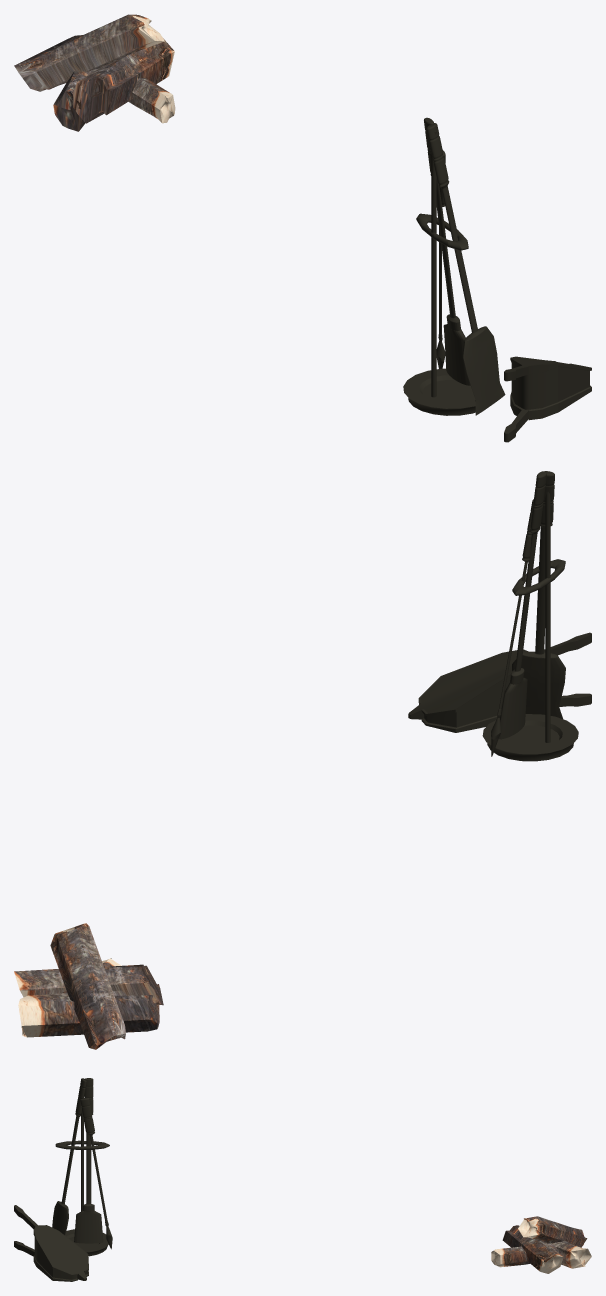
File: FireplaceAccessories.fbx
3 renders of one model, top to bottom at view 1: azimuth 30°, elevation 25°; view 2: azimuth 150°, elevation 25°; view 3: azimuth 270°, elevation 25°, orthographic. The views are drawn at different scales.
Visible parts, largest first — view 1: pasted__Wood3, decorations1:FireplacePuff, decorations1:pCylinder11, pasted__Wood1, decorations1:pCylinder14, decorations1:pCylinder12, decorations1:pCylinder15, pasted__Wood2, pasted__Wood4, decorations1:pTorus1, decorations1:pCylinder13; view 2: decorations1:FireplacePuff, pasted__Wood3, pasted__Wood4, decorations1:pCylinder11, decorations1:pCylinder12, decorations1:pCylinder14, pasted__Wood1, decorations1:pCylinder15, decorations1:pCylinder13; view 3: decorations1:FireplacePuff, decorations1:pCylinder12, pasted__Wood1, pasted__Wood3, decorations1:pCylinder11, decorations1:pCylinder13, pasted__Wood4, pasted__Wood2, decorations1:pCylinder14, decorations1:pTorus1, decorations1:pCylinder15.
Part boxes in pixels (bbox=[...]): pasted__Wood3: bbox=[14, 14, 164, 91]; decorations1:FireplacePuff: bbox=[504, 356, 591, 442]; decorations1:pCylinder11: bbox=[426, 123, 505, 415]; pasted__Wood1: bbox=[73, 38, 174, 123]; decorations1:pCylinder14: bbox=[403, 368, 475, 415]; decorations1:pCylinder12: bbox=[424, 117, 470, 385]; decorations1:pCylinder15: bbox=[431, 131, 436, 397]; pasted__Wood2: bbox=[128, 77, 175, 123]; pasted__Wood4: bbox=[53, 69, 97, 131]; decorations1:pTorus1: bbox=[416, 213, 468, 250]; decorations1:pCylinder13: bbox=[436, 150, 445, 368]; decorations1:FireplacePuff: bbox=[408, 632, 591, 732]; pasted__Wood3: bbox=[50, 923, 125, 1049]; pasted__Wood4: bbox=[18, 990, 159, 1037]; decorations1:pCylinder11: bbox=[512, 471, 565, 718]; decorations1:pCylinder12: bbox=[498, 471, 546, 739]; decorations1:pCylinder14: bbox=[482, 714, 578, 761]; pasted__Wood1: bbox=[14, 964, 163, 1005]; decorations1:pCylinder15: bbox=[545, 491, 550, 742]; decorations1:pCylinder13: bbox=[491, 499, 533, 756]; decorations1:FireplacePuff: bbox=[14, 1205, 88, 1281]; decorations1:pCylinder12: bbox=[74, 1078, 103, 1243]; pasted__Wood1: bbox=[502, 1225, 563, 1273]; pasted__Wood3: bbox=[518, 1216, 587, 1247]; decorations1:pCylinder11: bbox=[52, 1078, 86, 1235]; decorations1:pCylinder13: bbox=[80, 1097, 112, 1249]; pasted__Wood4: bbox=[548, 1240, 591, 1268]; pasted__Wood2: bbox=[491, 1243, 557, 1267]; decorations1:pCylinder14: bbox=[65, 1229, 108, 1256]; decorations1:pTorus1: bbox=[55, 1140, 109, 1149]; decorations1:pCylinder15: bbox=[81, 1082, 83, 1211].
Bounding box in the file's own units: 177 × 296 × 933.
2 materials, 1 textured.
